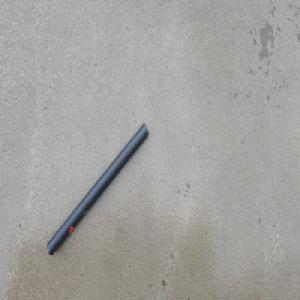LuggagePart: (45, 122, 148, 257)
